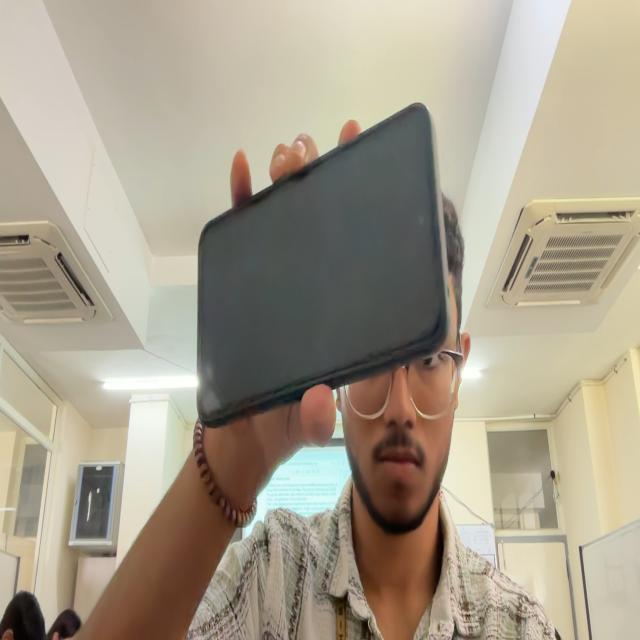Useful: (197, 104, 450, 427)
